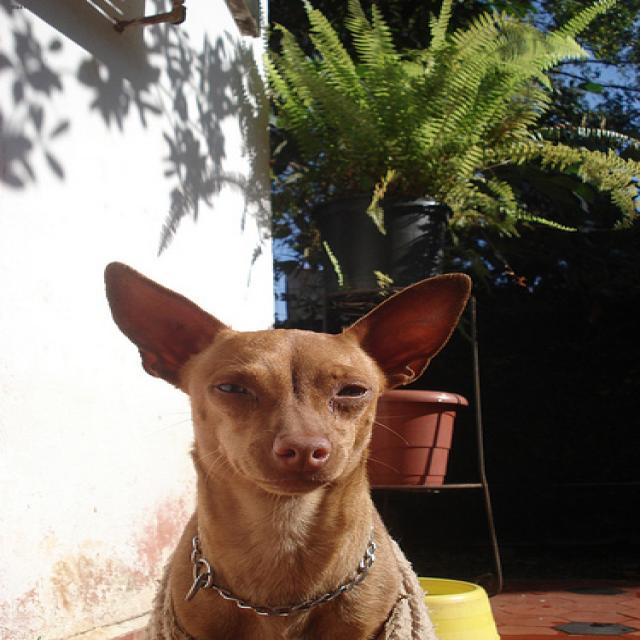dog-miniature_pinscher: (94, 255, 483, 637)
